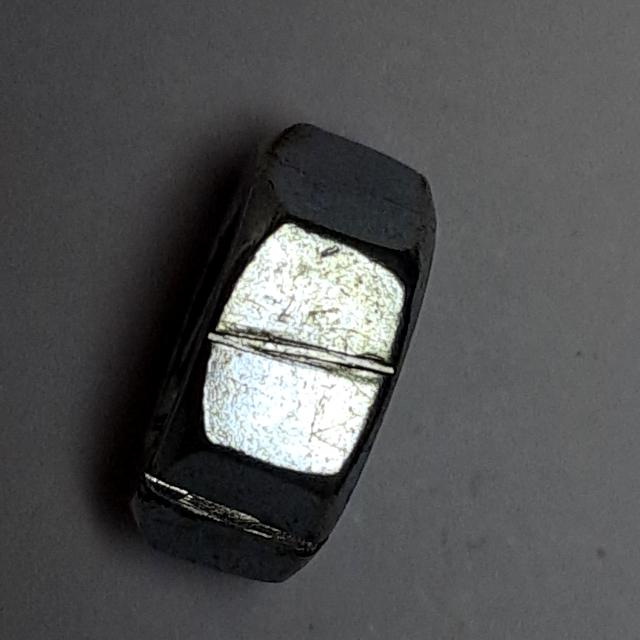Side_Scratches: (108, 109, 449, 600)
